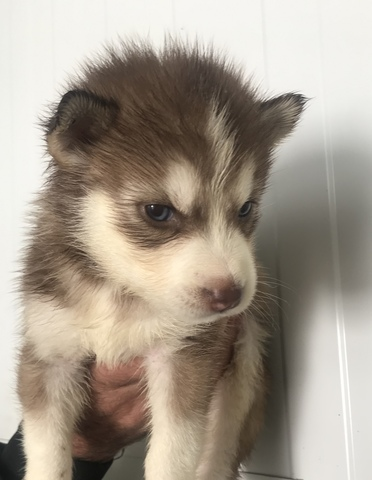husky: (17, 26, 312, 480)
